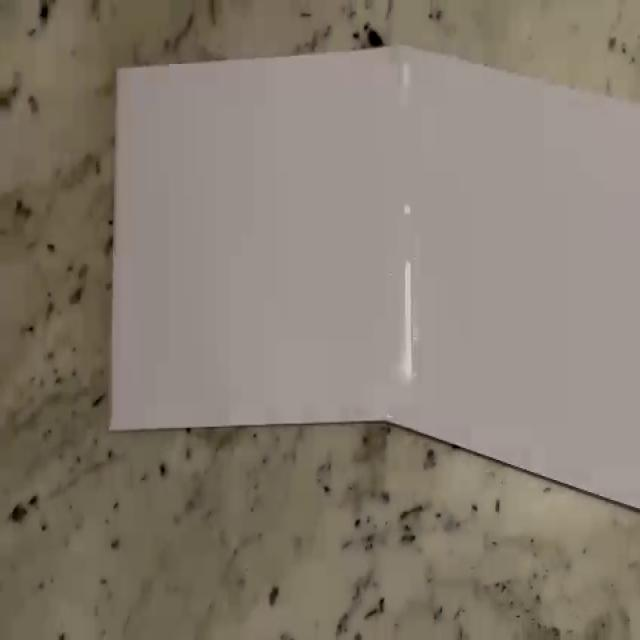road: (107, 45, 640, 509)
